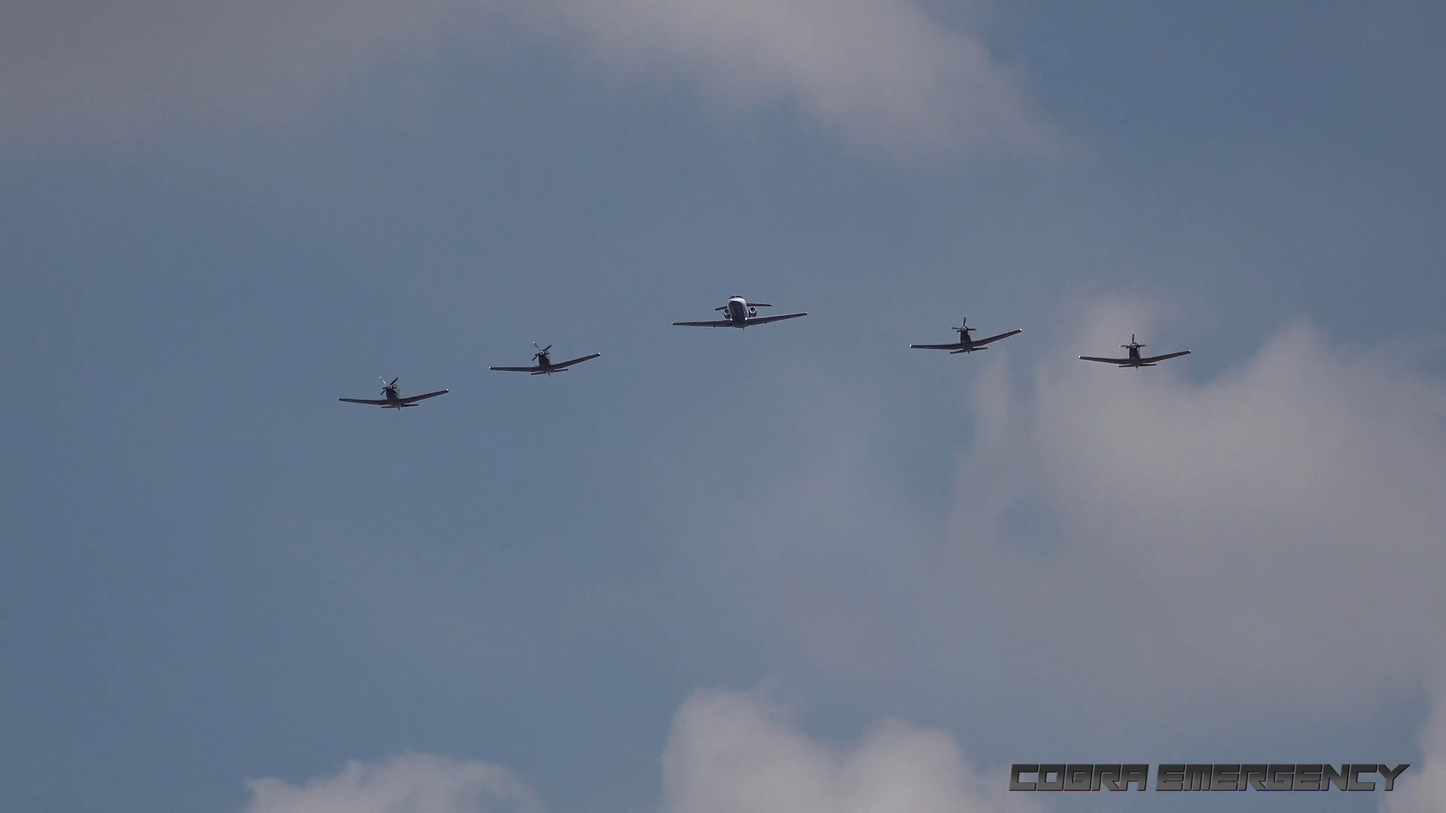airplane: (671, 286, 808, 339), (486, 337, 612, 387), (1074, 332, 1191, 378), (330, 375, 456, 417), (910, 318, 1025, 363)
